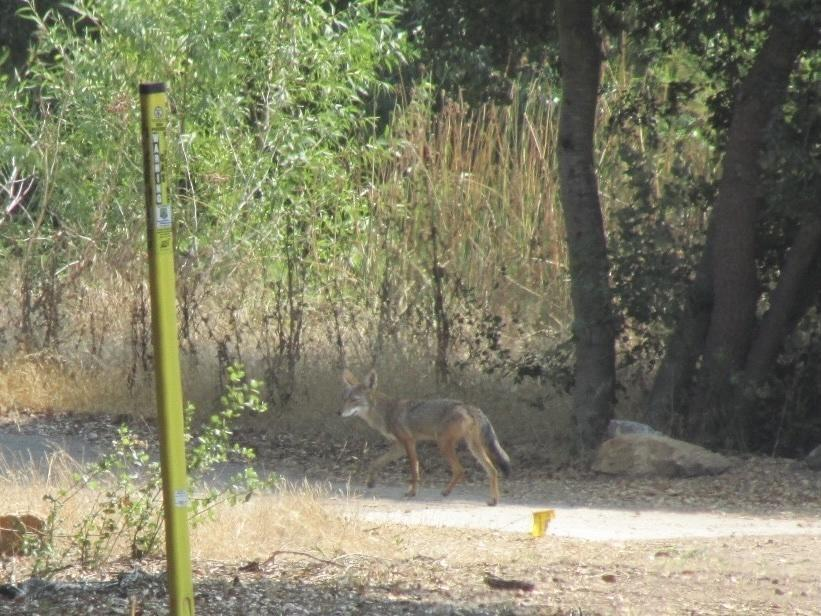Coyote: (335, 364, 514, 507)
